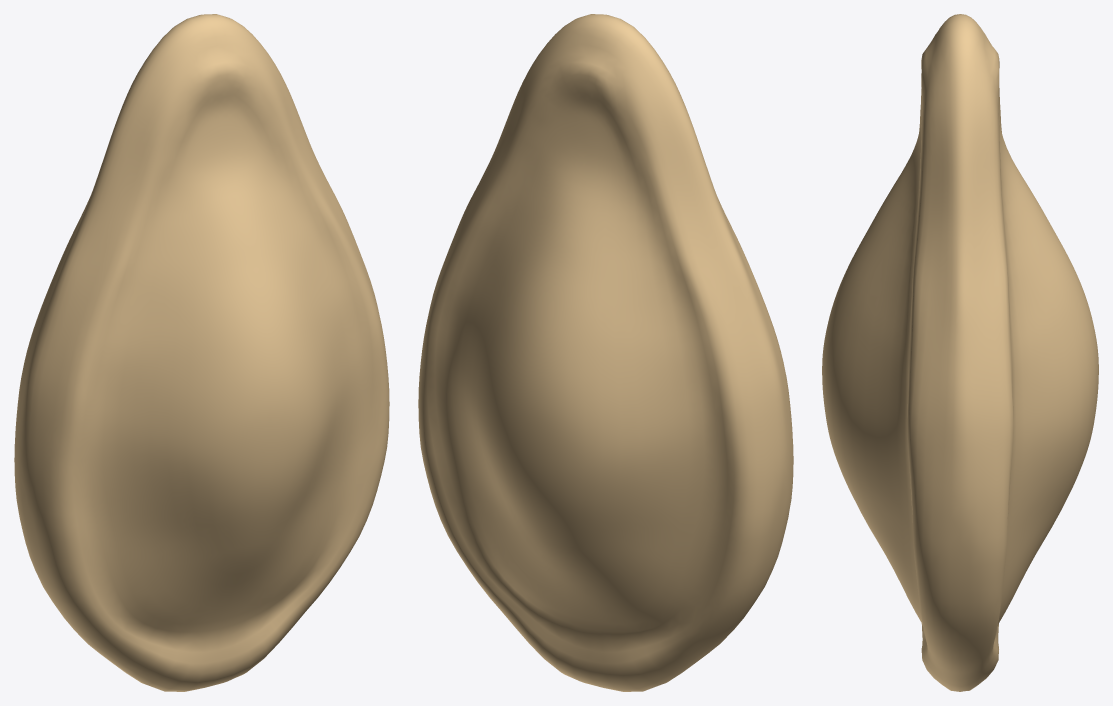
The model's file is pumpkin_seed1.fbx.
3 views of the same model, side by side, from view 1: azimuth 30°, elevation 25°; view 2: azimuth 150°, elevation 25°; view 3: azimuth 270°, elevation 25° (orthographic).
Parts seen in each view (by area): view 1: Retopo_Sphere.004; view 2: Retopo_Sphere.004; view 3: Retopo_Sphere.004.
Boxes of the visible parts, x1,y1,x2,y2 form: Retopo_Sphere.004: (14, 14, 389, 691); Retopo_Sphere.004: (418, 14, 793, 691); Retopo_Sphere.004: (822, 14, 1098, 691).
Bounding box in the file's own units: 224 × 401 × 153.
